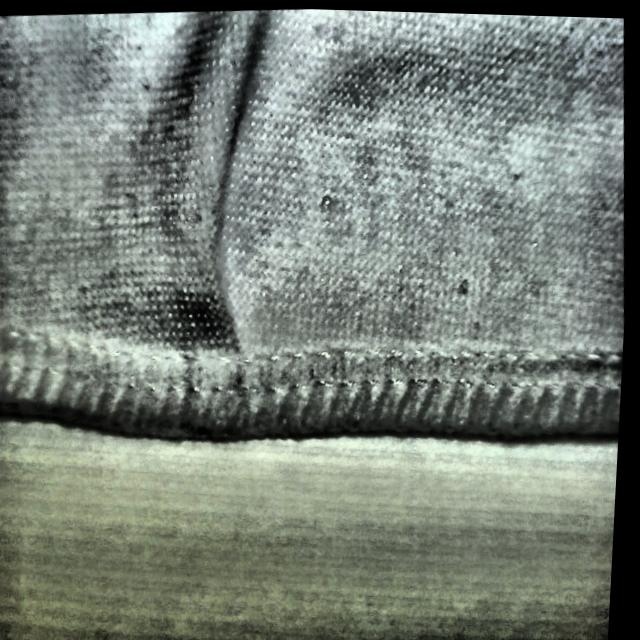seam: (127, 98, 314, 442)
